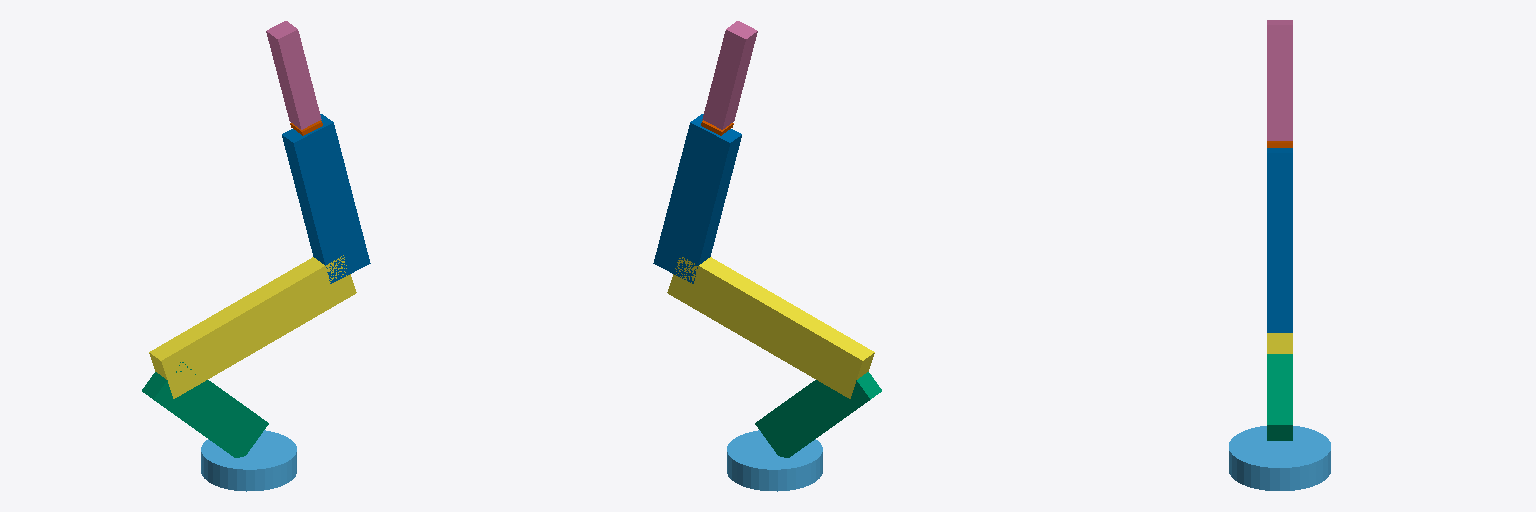
robot.urdf — uwrt_arm:
<?xml version="1.0" encoding="utf-8"?>
<!-- =================================================================================== -->
<!-- |    This document was autogenerated by xacro from uwrt_arm.urdf.xacro            | -->
<!-- |    EDITING THIS FILE BY HAND IS NOT RECOMMENDED                                 | -->
<!-- =================================================================================== -->
<robot name="uwrt_arm" xmlns:xacro="http://www.ros.org/wiki/xacro">
  <!-- Define a default link for the world -->
  <link name="world"/>
  <!-- TODO(someshdaga): Define the model of the arm accurately
       i.e dimensions, layout, limits, efforts, meshes, materials etc -->
  <!-- m -->
  <!-- m -->
  <!-- m -->
  <!-- m -->
  <!-- m -->
  <!-- rad/s^2 -->
  <!-- m -->
  <!-- (JOINT) MOBILE BASE/WORLD -> TURNTABLE -->
  <joint name="arm_base_turntable_joint" type="revolute">
    <parent link="world"/>
    <child link="arm_turntable_link"/>
    <origin rpy="0 0 0" xyz="0 0 0.025"/>
    <axis rpy="0 0 0" xyz="0 0 1"/>
    <limit effort="75" lower="-2.09439510239" upper="2.09439510239" velocity="0.5"/>
  </joint>
  <!-- (LINK) TURNTABLE -->
  <link name="arm_turntable_link">
    <inertial>
      <mass value="5"/>
      <origin rpy="0 0 0" xyz="0 0 0.025"/>
      <inertia ixx="0.0135416666667" ixy="0" ixz="0" iyy="0.025" iyz="0" izz="0.0135416666667"/>
    </inertial>
    <visual>
      <origin rpy="0 0 0" xyz="0 0 0.025"/>
      <geometry>
        <cylinder length="0.05" radius="0.1"/>
      </geometry>
    </visual>
    <collision>
      <origin rpy="0 0 0" xyz="0 0 0.025"/>
      <geometry>
        <cylinder length="0.05" radius="0.1"/>
      </geometry>
    </collision>
  </link>
  <!-- (JOINT) TURNTABLE -> SHOULDER REVOLUTE LINK -->
  <joint name="arm_shoulder_joint" type="revolute">
    <parent link="arm_turntable_link"/>
    <child link="arm_shoulder_revolute_link"/>
    <origin rpy="0 0 0" xyz="0 0 0.075"/>
    <axis xyz="0 -1 0"/>
    <limit effort="75" lower="0.349065850399" upper="1.308996939" velocity="1.0"/>
  </joint>
  <!-- (LINK) SHOULDER_REVOLUTE_LINK -->
  <link name="arm_shoulder_revolute_link">
    <inertial>
      <mass value="1.0"/>
      <origin rpy="0 0 0" xyz="0 0 0.143"/>
      <inertia ixx="0.00702466666667" ixy="0" ixz="0" iyy="0.00764966666667" iyz="0" izz="0.00104166666667"/>
    </inertial>
    <visual>
      <origin rpy="0 0 0" xyz="0 0 0.143"/>
      <geometry>
        <box size="0.1                      0.05                      0.286"/>
      </geometry>
    </visual>
    <collision>
      <origin rpy="0 0 0" xyz="0 0 0.143"/>
      <geometry>
        <box size="0.1                      0.05                      0.286"/>
      </geometry>
    </collision>
  </link>
  <!-- (JOINT) SHOULDER->BICEP (NOT ACTUATED) -->
  <joint name="arm_shoulder_bicep_joint" type="fixed">
    <parent link="arm_shoulder_revolute_link"/>
    <child link="arm_bicep_link"/>
    <origin rpy="0 2.08915911464 0" xyz="0 0 0.286"/>
  </joint>
  <!-- (LINK) BICEP -->
  <link name="arm_bicep_link">
    <inertial>
      <mass value="3.0"/>
      <origin rpy="0 0 0" xyz="0 0 0.231"/>
      <inertia ixx="0.053986" ixy="0" ixz="0" iyy="0.055861" iyz="0" izz="0.003125"/>
    </inertial>
    <visual>
      <origin rpy="0 0 0" xyz="0 0 0.231"/>
      <geometry>
        <box size="0.1                      0.05                      0.462"/>
      </geometry>
    </visual>
    <collision>
      <origin rpy="0 0 0" xyz="0 0 0.231"/>
      <geometry>
        <box size="0.1                      0.05                      0.462"/>
      </geometry>
    </collision>
  </link>
  <!-- (JOINT) ELBOW (BICEP->FOREARM) -->
  <joint name="arm_elbow_joint" type="revolute">
    <parent link="arm_bicep_link"/>
    <child link="arm_forearm_link"/>
    <origin rpy="0 -1.51110606638 0" xyz="0 0 0.462"/>
    <axis xyz="0 1 0"/>
    <limit effort="75" lower="0.0" upper="1.3962634016" velocity="1.0"/>
  </joint>
  <!-- (LINK) FOREARM -->
  <link name="arm_forearm_link">
    <inertial>
      <mass value="3.0"/>
      <origin rpy="0 0 0" xyz="0 0 0.178"/>
      <inertia ixx="0.032309" ixy="0" ixz="0" iyy="0.034184" iyz="0" izz="0.003125"/>
    </inertial>
    <visual>
      <origin rpy="0 0 0" xyz="0 0 0.178"/>
      <geometry>
        <box size="0.1                      0.05                      0.356"/>
      </geometry>
    </visual>
    <collision>
      <origin rpy="0 0 0" xyz="0 0 0.178"/>
      <geometry>
        <box size="0.1                      0.05                      0.356"/>
      </geometry>
    </collision>
  </link>
  <!-- (JOINT) WRIST [ROLL] -->
  <joint name="arm_wrist_roll_joint" type="revolute">
    <parent link="arm_forearm_link"/>
    <child link="arm_wrist_link"/>
    <origin rpy="0 0 0" xyz="0 0 0.366"/>
    <axis xyz="0 0 1"/>
    <limit effort="75" lower="-2.35619449019" upper="2.35619449019" velocity="1.0"/>
  </joint>
  <!-- (LINK) FAKE WRIST
         (Virtual link break differential transmission into 2 simple transmissions) -->
  <link name="arm_wrist_link">
    <inertial>
      <mass value="0.25"/>
      <origin rpy="0 0 0" xyz="0 0 0"/>
      <inertia ixx="5.41666666667e-05" ixy="0" ixz="0" iyy="5.41666666667e-05" iyz="0" izz="0.000104166666667"/>
    </inertial>
    <visual>
      <origin rpy="0 0 0" xyz="0 0 0"/>
      <geometry>
        <box size="0.05                      0.05                      0.01"/>
      </geometry>
    </visual>
    <collision>
      <origin rpy="0 0 0" xyz="0 0 0"/>
      <geometry>
        <box size="0.05                      0.05                      0.01"/>
      </geometry>
    </collision>
  </link>
  <!-- (JOINT) WRIST [PITCH] -->
  <joint name="arm_wrist_pitch_joint" type="revolute">
    <parent link="arm_wrist_link"/>
    <child link="arm_claw_link"/>
    <origin rpy="0 0 0" xyz="0 0 0.01"/>
    <axis xyz="0 1 0"/>
    <limit effort="100" lower="-1.308996939" upper="1.308996939" velocity="1.0"/>
  </joint>
  <!-- (LINK) CLAW -->
  <link name="arm_claw_link" type="fixed">
    <inertial>
      <mass value="0.01"/>
      <origin rpy="0 0 0" xyz="0 0 0.114"/>
      <inertia ixx="0.00227016666667" ixy="0" ixz="0" iyy="0.00227016666667" iyz="0" izz="0.000208333333333"/>
    </inertial>
    <visual>
      <origin rpy="0 0 0" xyz="0 0 0.114"/>
      <geometry>
        <box size="0.05 0.05 0.228"/>
      </geometry>
    </visual>
    <collision>
      <origin rpy="0 0 0" xyz="0 0 0.025"/>
      <geometry>
        <box size="0.05                      0.05                      0.228"/>
      </geometry>
    </collision>
  </link>
  <gazebo>
    <plugin filename="libgazebo_uwrt_arm_hw.so" name="uwrt_arm_hw">
      <robotNamespace>/</robotNamespace>
    </plugin>
  </gazebo>
  <gazebo reference="arm_turntable_link">
    <static>false</static>
    <gravity>true</gravity>
    <selfCollide>false</selfCollide>
  </gazebo>
  <gazebo reference="arm_shoulder_revolute_link">
    <static>false</static>
    <gravity>true</gravity>
    <selfCollide>false</selfCollide>
  </gazebo>
  <gazebo reference="arm_bicep_link">
    <static>false</static>
    <gravity>true</gravity>
    <selfCollide>false</selfCollide>
  </gazebo>
  <gazebo reference="arm_forearm_link">
    <static>false</static>
    <gravity>true</gravity>
    <selfCollide>false</selfCollide>
  </gazebo>
  <gazebo reference="arm_wrist_link">
    <static>false</static>
    <gravity>true</gravity>
    <selfCollide>false</selfCollide>
  </gazebo>
  <gazebo reference="arm_claw_link">
    <static>false</static>
    <gravity>true</gravity>
    <selfCollide>false</selfCollide>
  </gazebo>
  <!-- TURNTABLE -->
  <transmission name="arm_turntable_trans">
    <type>transmission_interface/SimpleTransmission</type>
    <joint name="arm_base_turntable_joint">
      <hardwareInterface>hardware_interface/PositionJointInterface</hardwareInterface>
    </joint>
    <actuator name="arm_turntable_motor">
      <mechanicalReduction>1</mechanicalReduction>
    </actuator>
  </transmission>
  <!-- SHOULDER -->
  <transmission name="arm_shoulder_trans">
    <type>transmission_interface/SimpleTransmission</type>
    <joint name="arm_shoulder_joint">
      <hardwareInterface>hardware_interface/PositionJointInterface</hardwareInterface>
    </joint>
    <actuator name="arm_shoulder_motor">
      <mechanicalReduction>1</mechanicalReduction>
    </actuator>
  </transmission>
  <!-- ELBOW -->
  <transmission name="arm_elbow_trans">
    <type>transmission_interface/SimpleTransmission</type>
    <joint name="arm_elbow_joint">
      <hardwareInterface>hardware_interface/PositionJointInterface</hardwareInterface>
    </joint>
    <actuator name="arm_elbow_motor">
      <mechanicalReduction>1</mechanicalReduction>
    </actuator>
  </transmission>
  <!-- WRIST -->
  <transmission name="arm_wrist_roll_trans">
    <type>transmission_interface/SimpleTransmission</type>
    <joint name="arm_wrist_roll_joint">
      <hardwareInterface>hardware_interface/PositionJointInterface</hardwareInterface>
    </joint>
    <actuator name="arm_wrist_roll_motor">
      <mechanicalReduction>1</mechanicalReduction>
    </actuator>
  </transmission>
  <transmission name="arm_wrist_pitch_trans">
    <type>transmission_interface/SimpleTransmission</type>
    <joint name="arm_wrist_pitch_joint">
      <hardwareInterface>hardware_interface/PositionJointInterface</hardwareInterface>
    </joint>
    <actuator name="arm_wrist_pitch_motor">
      <mechanicalReduction>1</mechanicalReduction>
    </actuator>
  </transmission>
</robot>

--- Render facts (derived) ---
The picture shows the robot from 3 angles, left to right: view 1: azimuth 30°, elevation 25°; view 2: azimuth 150°, elevation 25°; view 3: azimuth 270°, elevation 25°; orthographic projection.
Model uwrt_arm with 7 links and 6 joints (5 revolute, 1 fixed), rooted at world, posed all joints at 0 but 1 set to mid-range because 0 is outside their limits (arm_shoulder_joint = 0.829).
Visible links, largest first — view 1: arm_bicep_link, arm_forearm_link, arm_shoulder_revolute_link, arm_turntable_link, arm_claw_link; view 2: arm_bicep_link, arm_forearm_link, arm_shoulder_revolute_link, arm_turntable_link, arm_claw_link; view 3: arm_turntable_link, arm_forearm_link, arm_claw_link, arm_shoulder_revolute_link, arm_bicep_link.
Boxes of the visible links, x1,y1,x2,y2 form: arm_bicep_link: [149, 255, 356, 398]; arm_forearm_link: [282, 114, 370, 283]; arm_shoulder_revolute_link: [142, 362, 268, 457]; arm_turntable_link: [201, 430, 296, 491]; arm_claw_link: [266, 21, 321, 129]; arm_bicep_link: [667, 257, 874, 398]; arm_forearm_link: [653, 114, 741, 283]; arm_shoulder_revolute_link: [755, 372, 881, 457]; arm_turntable_link: [727, 430, 822, 491]; arm_claw_link: [702, 21, 757, 129]; arm_turntable_link: [1229, 426, 1330, 490]; arm_forearm_link: [1267, 148, 1292, 332]; arm_claw_link: [1267, 20, 1292, 140]; arm_shoulder_revolute_link: [1267, 354, 1292, 440]; arm_bicep_link: [1267, 333, 1292, 353].
Bounding box of the posed robot: 0.5221 × 0.2 × 1 m (x, y, z).
Geometry: primitives only (box / cylinder / sphere), no mesh files.